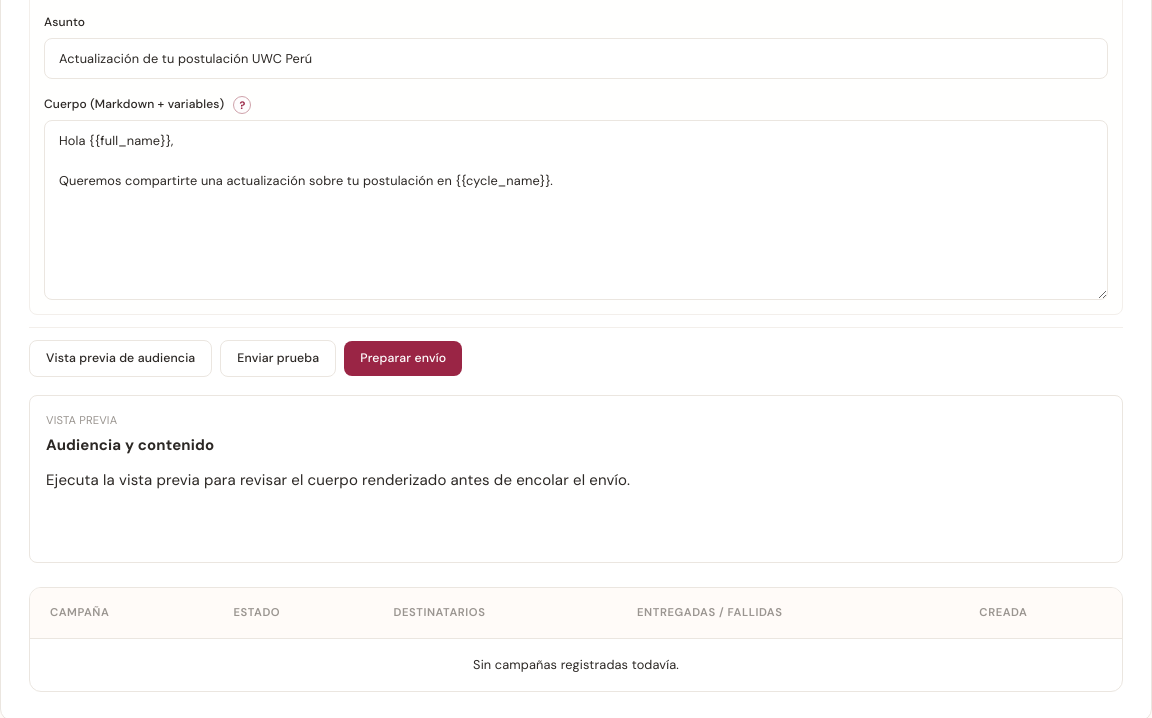
it: AdminCommunicationsCenter › surfaces API error callout when sending a campaign test email fails
(page scrolled)
Click the button "Enviar prueba": (278, 359) [220,340,336,377]
(page scrolled)
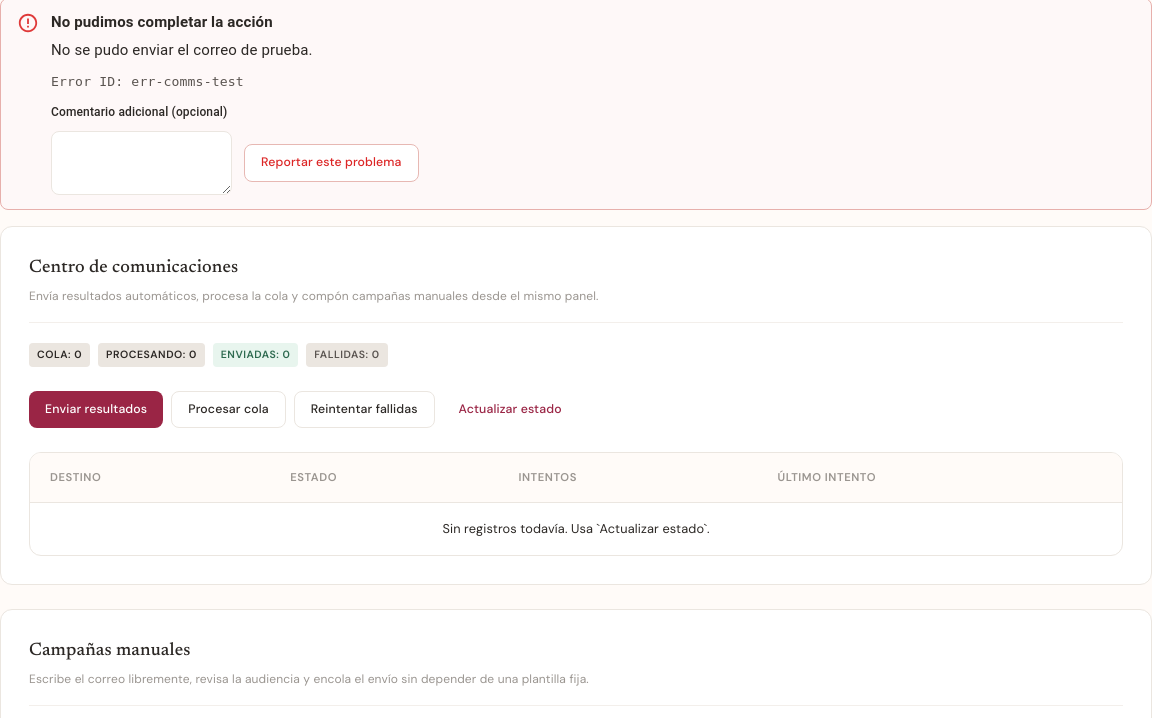
Expected: the text "No se pudo enviar el correo de prueba." is shown, [51,41,313,59]
Expected: the text "Error ID: err-comms-test" is shown, [51,74,244,89]
